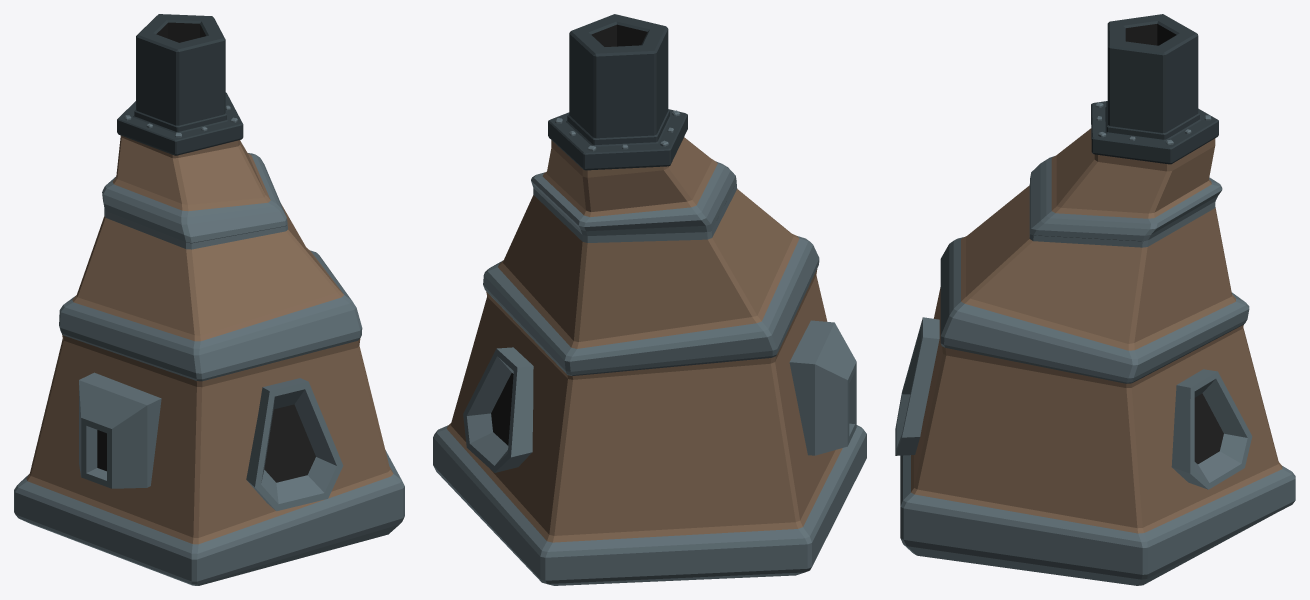
The model's file is machine_furnace.fbx.
3 renders of one model, left to right at view 1: azimuth 30°, elevation 25°; view 2: azimuth 150°, elevation 25°; view 3: azimuth 270°, elevation 25°, orthographic. The views are drawn at different scales.
Visible parts, largest first — view 1: Circle.018; view 2: Circle.018; view 3: Circle.018.
Part boxes in pixels (box(x1,y1,x2,y2)): Circle.018: box(14, 14, 404, 585); Circle.018: box(433, 14, 866, 585); Circle.018: box(895, 14, 1295, 585).
Size of the model in its own units: 3.87 by 4.9 by 3.73.
